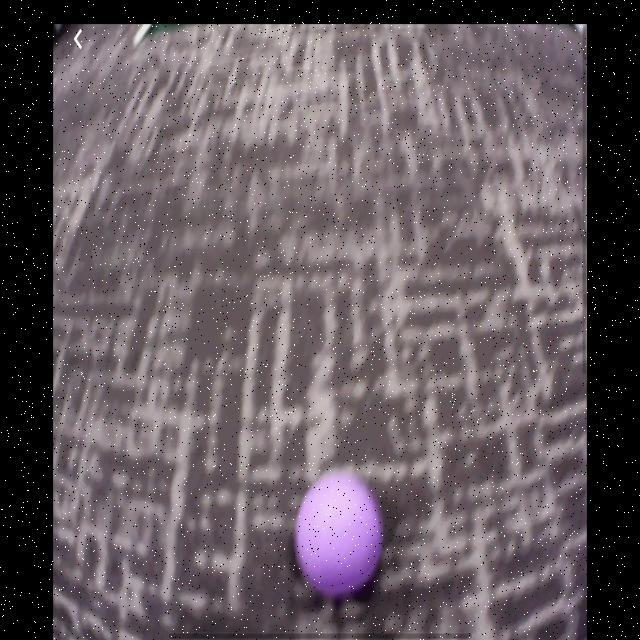ball: (299, 475, 381, 593)
